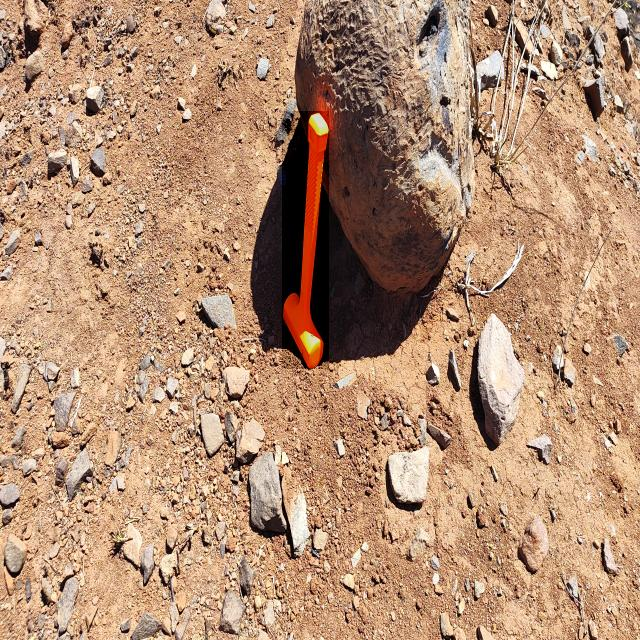Orange_hammer: (282, 111, 329, 369)
